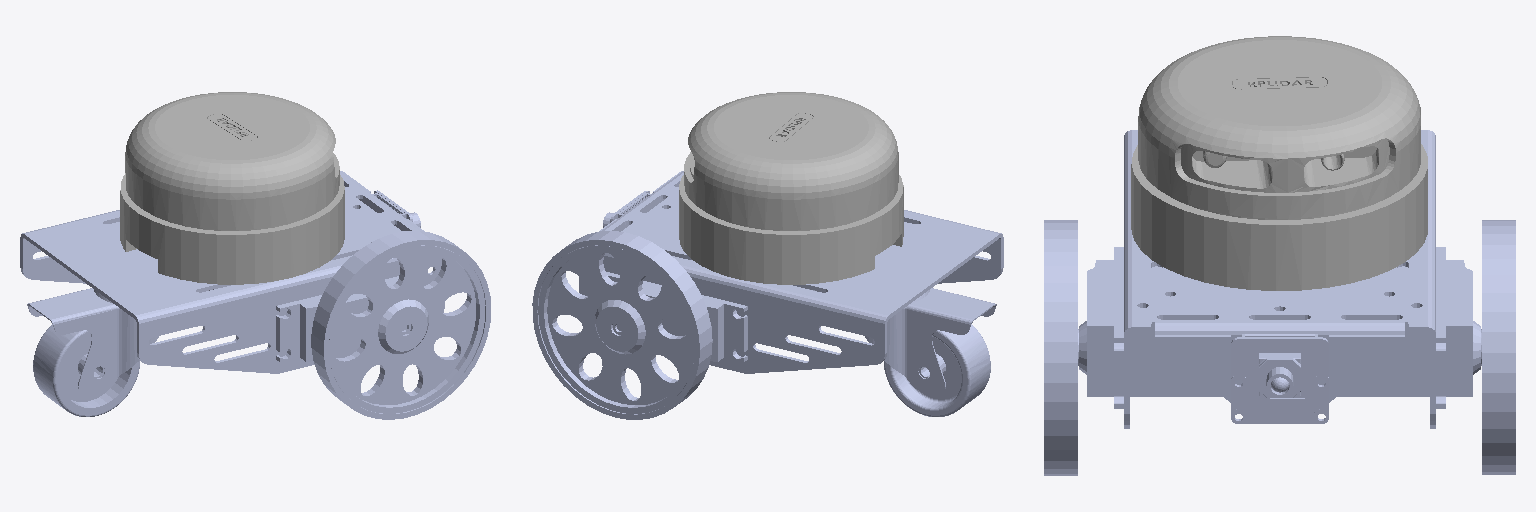
URDF robot description (boe_bot):
<?xml version="1.0" encoding="utf-8"?>
<!-- This URDF was automatically created by SolidWorks to URDF Exporter! Originally created by [author] ([email redacted]) 
     Commit Version: 1.6.0-4-g7f85cfe  Build Version: 1.6.7995.38578
     For more information, please see http://wiki.ros.org/sw_urdf_exporter -->
<robot name="boe_bot">
  <!-- Add base_footprint as the root link to avoid KDL inertia warning -->
  <link name="base_footprint"/>
  <!-- Connect base_footprint to base_link -->
  <joint name="base_footprint_to_base_link" type="fixed">
    <parent link="base_footprint"/>
    <child link="base_link"/>
    <origin xyz="0 0 0.015" rpy="0 0 0"/> <!-- Adjust z to bring base_footprint to ground level -->
  </joint>

  <link name="base_link">
    <inertial>
      <origin xyz="0.015372613233287 -3.46944695195361E-17 -0.0112885052624893" rpy="0 0 0"/>
      <mass value="0.0845069146251862"/>
      <inertia ixx="2.81611735996107E-05" ixy="2.16913313552812E-20" ixz="1.05758867413716E-06"
               iyy="4.27824591768325E-05" iyz="-4.86011791909739E-22" izz="6.37632690827645E-05"/>
    </inertial>
    <visual>
      <origin xyz="0 0 0" rpy="0 0 0"/>
      <geometry>
        <mesh filename="package://omni_diff/meshes/boe_bot/base_link.STL"/>
      </geometry>
      <material name="">
        <color rgba="0.796078431372549 0.823529411764706 0.937254901960784 1"/>
      </material>
    </visual>
    <collision>
      <origin xyz="0 0 0" rpy="0 0 0"/>
      <geometry>
        <mesh filename="package://omni_diff/meshes/boe_bot/base_link.STL"/>
      </geometry>
    </collision>
  </link>

  <link name="wheel_left_link">
    <inertial>
      <origin xyz="0 0.00553796497701515 -3.79470760369927E-18" rpy="0 0 0"/>
      <mass value="0.2130642793486274"/>
      <inertia ixx="4.32893090293568E-06" ixy="5.41845433689761E-23" ixz="1.73123420637818E-13"
               iyy="8.57657172030877E-06" iyz="-4.8491845912464E-22" izz="4.32893075375732E-06"/>
    </inertial>
    <visual>
      <origin xyz="0 0 0" rpy="0 0 0"/>
      <geometry>
        <mesh filename="package://omni_diff/meshes/boe_bot/wheel_left_link.STL"/>
      </geometry>
      <material name="">
        <color rgba="0.796078431372549 0.823529411764706 0.937254901960784 1"/>
      </material>
    </visual>
    <collision>
      <origin xyz="0 0 0" rpy="0 0 0"/>
      <geometry>
        <mesh filename="package://omni_diff/meshes/boe_bot/wheel_left_link.STL"/>
      </geometry>
    </collision>
  </link>

  <joint name="wheel_left_joint" type="continuous">
    <origin xyz="0.0335770220595312 0.0505 -0.0150000000000002" rpy="0 0 0"/>
    <parent link="base_link"/>
    <child link="wheel_left_link"/>
    <axis xyz="0 1 0"/>
  </joint>

  <link name="wheel_right_link">
    <inertial>
      <origin xyz="0 -0.00553796497701514 1.07336015076065E-17" rpy="0 0 0"/>
      <mass value="0.2130642793486274"/>
      <inertia ixx="4.32893100565209E-06" ixy="3.64755459763141E-22" ixz="6.40155716027221E-14"
               iyy="8.57657172030879E-06" iyz="-1.46386124150942E-20" izz="4.32893065104093E-06"/>
    </inertial>
    <visual>
      <origin xyz="0 0 0" rpy="0 0 0"/>
      <geometry>
        <mesh filename="package://omni_diff/meshes/boe_bot/wheel_right_link.STL"/>
      </geometry>
      <material name="">
        <color rgba="0.796078431372549 0.823529411764706 0.937254901960784 1"/>
      </material>
    </visual>
    <collision>
      <origin xyz="0 0 0" rpy="0 0 0"/>
      <geometry>
        <mesh filename="package://omni_diff/meshes/boe_bot/wheel_right_link.STL"/>
      </geometry>
    </collision>
  </link>

  <joint name="wheel_right_joint" type="continuous">
    <origin xyz="0.0335770220595312 -0.0505000000000001 -0.015" rpy="0 0 0"/>
    <parent link="base_link"/>
    <child link="wheel_right_link"/>
    <axis xyz="0 1 0"/>
  </joint>

  <link name="base_caster_link">
    <inertial>
      <origin xyz="-0.0104678852334143 1.57497942465668E-07 -0.0071134358279898" rpy="0 0 0"/>
      <mass value="0.10124862338167261"/>
      <inertia ixx="1.83848997721061E-07" ixy="-1.93002189856831E-11" ixz="-2.25796263159261E-08"
               iyy="2.78831217705956E-07" iyz="-1.1602793994816E-11" izz="2.85184016425339E-07"/>
    </inertial>
    <visual>
      <origin xyz="0 0 0" rpy="0 0 0"/>
      <geometry>
        <mesh filename="package://omni_diff/meshes/boe_bot/base_caster_link.STL"/>
      </geometry>
      <material name="">
        <color rgba="0.792156862745098 0.819607843137255 0.933333333333333 1"/>
      </material>
    </visual>
    <collision>
      <origin xyz="0 0 0" rpy="0 0 0"/>
      <geometry>
        <mesh filename="package://omni_diff/meshes/boe_bot/base_caster_link.STL"/>
      </geometry>
    </collision>
  </link>

  <joint name="base_caster_joint" type="continuous">
    <origin xyz="-0.0385214248009794 0 -0.00719409656050521" rpy="0 0 0"/>
    <parent link="base_link"/>
    <child link="base_caster_link"/>
    <axis xyz="0 0 1"/>
  </joint>

  <link name="wheel_caster_link">
    <inertial>
      <origin xyz="0 -0.00742574845928592 -1.73472347597681E-18" rpy="0 0 0"/>
      <mass value="0.10767892497936741"/>
      <inertia ixx="8.07278072682819E-07" ixy="5.64490306617491E-23" ixz="1.54955240768055E-22"
               iyy="1.39986458533007E-06" iyz="-8.48543971596133E-24" izz="8.07278072682819E-07"/>
    </inertial>
    <visual>
      <origin xyz="0 0 0" rpy="0 0 0"/>
      <geometry>
        <mesh filename="package://omni_diff/meshes/boe_bot/wheel_caster_link.STL"/>
      </geometry>
      <material name="">
        <color rgba="0.792156862745098 0.819607843137255 0.933333333333333 1"/>
      </material>
    </visual>
    <collision>
      <origin xyz="0 0 0" rpy="0 0 0"/>
      <geometry>
        <mesh filename="package://omni_diff/meshes/boe_bot/wheel_caster_link.STL"/>
      </geometry>
    </collision>
  </link>

  <joint name="wheel_caster_joint" type="continuous">
    <origin xyz="-0.0184 0.00740252051557694 -0.02346" rpy="0 0 0"/>
    <parent link="base_caster_link"/>
    <child link="wheel_caster_link"/>
    <axis xyz="0 1 0"/>
  </joint>

  <link name="lidar_link">
    <inertial>
      <origin xyz="-0.000563485694278578 -4.9454389998746E-05 -0.0270014519405859" rpy="0 0 0"/>
      <mass value="0.065382751635991"/>
      <inertia ixx="7.88455572217802E-05" ixy="2.72193273405131E-07" ixz="2.17895059451145E-06"
               iyy="7.52099178826257E-05" iyz="1.62277412641598E-07" izz="0.000109946753058707"/>
    </inertial>
    <visual>
      <origin xyz="0 0 0" rpy="0 0 0"/>
      <geometry>
        <mesh filename="package://omni_diff/meshes/boe_bot/lidar_link.STL"/>
      </geometry>
      <material name="">
        <color rgba="0.752941176470588 0.752941176470588 0.752941176470588 0.4"/>
      </material>
    </visual>
    <collision>
      <origin xyz="0 0 0" rpy="0 0 0"/>
      <geometry>
        <mesh filename="package://omni_diff/meshes/boe_bot/lidar_link.STL"/>
      </geometry>
    </collision>
  </link>

  <joint name="lidar_joint" type="fixed">
    <origin xyz="0 0 0.0493" rpy="0 0 0"/>
    <parent link="base_link"/>
    <child link="lidar_link"/>
    <axis xyz="0 0 1"/>
  </joint>

  <link name="camera_link">
    <inertial>
      <origin xyz="-0.0077092572425532 2.63468590775279E-05 -0.00016251773378602" rpy="0 0 0"/>
      <mass value="0.00154849051596779"/>
      <inertia ixx="9.81439425205818E-08" ixy="1.55536718669128E-11" ixz="2.74799408025989E-09"
               iyy="6.15276310368582E-08" iyz="3.76651168163259E-10" izz="5.63302052123382E-08"/>
    </inertial>
    <visual>
      <origin xyz="0 0 0" rpy="0 0 0"/>
      <geometry>
        <mesh filename="package://omni_diff/meshes/boe_bot/camera_link.STL"/>
      </geometry>
      <material name="">
        <color rgba="0.792156862745098 0.819607843137255 0.933333333333333 1"/>
      </material>
    </visual>
    <collision>
      <origin xyz="0 0 0" rpy="0 0 0"/>
      <geometry>
        <mesh filename="package://omni_diff/meshes/boe_bot/camera_link.STL"/>
      </geometry>
    </collision>
  </link>

  <joint name="camera_joint" type="fixed">
    <origin xyz="0.0716965295130383 0 -0.00809859999999995" rpy="0 0 0"/>
    <parent link="base_link"/>
    <child link="camera_link"/>
    <axis xyz="0 0 0"/>
  </joint>

  <link name="imu_link">
    <inertial>
      <origin xyz="-1.73472347597681E-18 0.000180981912555563 0.000888343705367662" rpy="0 0 0"/>
      <mass value="0.000302850245192701"/>
      <inertia ixx="6.03209693376082E-09" ixy="-9.69699030246281E-25" ixz="-1.81322634255859E-27"
               iyy="9.48650699122206E-09" iyz="-8.97755442994359E-13" izz="1.54683861524513E-08"/>
    </inertial>
    <visual>
      <origin xyz="0 0 0" rpy="0 0 0"/>
      <geometry>
        <mesh filename="package://omni_diff/meshes/boe_bot/imu_link.STL"/>
      </geometry>
      <material name="">
        <color rgba="0.666666666666667 0.698039215686274 0.768627450980392 1"/>
      </material>
    </visual>
    <collision>
      <origin xyz="0 0 0" rpy="0 0 0"/>
      <geometry>
        <mesh filename="package://omni_diff/meshes/boe_bot/imu_link.STL"/>
      </geometry>
    </collision>
  </link>

  <joint name="imu_joint" type="fixed">
    <origin xyz="0 0 -0.0014" rpy="0 0 0"/>
    <parent link="base_link"/>
    <child link="imu_link"/>
    <axis xyz="0 0 0"/>
  </joint>

  <!-- LiDAR Plugin -->
  <gazebo reference="lidar_link">
    <material>Gazebo/FlatBlack</material>
    <sensor type="ray" name="head_rplidar_sensor">
      <pose>0 0 0 0 0 0</pose>
      <visualize>true</visualize>
      <update_rate>10.0</update_rate>
      <ray>
        <scan>
          <horizontal>
            <samples>720</samples>
            <resolution>1</resolution>
            <min_angle>-3.1415</min_angle>
            <max_angle>3.1415</max_angle>
          </horizontal>
        </scan>
        <range>
          <min>0.120</min>
          <max>10</max>
          <resolution>0.015</resolution>
        </range>
        <noise>
          <type>gaussian</type>
          <mean>0.0</mean>
          <stddev>0.01</stddev>
        </noise>
      </ray>
      <plugin name="gazebo_ros_head_rplidar_controller" filename="libgazebo_ros_laser.so">
        <topicName>/scan</topicName>
        <frameName>lidar_link</frameName>
        <gaussianNoise>0.01</gaussianNoise>
      </plugin>
    </sensor>
  </gazebo>

<!-- Depth Camera Plugin -->
<gazebo reference="camera_link">
  <sensor name="depth_camera_sensor" type="depth">
    <always_on>1</always_on>
    <update_rate>30</update_rate>
    <camera>
      <horizontal_fov>1.0472</horizontal_fov>
      <image>
        <width>640</width>
        <height>480</height>
        <format>R8G8B8</format>
      </image>
      <clip>
        <near>0.1</near>
        <far>100</far>
      </clip>
    </camera>
    <plugin name="depth_camera_plugin" filename="libgazebo_ros_depth_camera.so">
      <robotNamespace>/camera/depth</robotNamespace>
      <imageTopicName>image_raw</imageTopicName>
      <depthImageTopicName>depth/image_raw</depthImageTopicName>
      <pointCloudTopicName>depth/points</pointCloudTopicName>
      <cameraInfoTopicName>camera_info</cameraInfoTopicName>
      <frameName>camera_link</frameName>
    </plugin>
  </sensor>
</gazebo>

  <!-- IMU Plugin -->
  <gazebo reference="imu_link">
    <gravity>true</gravity>
    <sensor name="imu_sensor" type="imu">
      <always_on>true</always_on>
      <update_rate>100</update_rate>
      <visualize>true</visualize>
      <plugin name="imu_plugin" filename="libgazebo_ros_imu_sensor.so">
        <topicName>/imu</topicName>
        <bodyName>imu_link</bodyName>
        <updateRateHZ>10.0</updateRateHZ>
        <gaussianNoise>0.0</gaussianNoise>
        <xyzOffset>0 0 0</xyzOffset>
        <rpyOffset>0 0 0</rpyOffset>
        <frameName>imu_link</frameName>
        <initialOrientationAsReference>false</initialOrientationAsReference>
      </plugin>
      <pose>0 0 0 0 0 0</pose>
    </sensor>
  </gazebo>

  <!-- Differential Drive Plugin -->
  <gazebo>
    <plugin name="boe_bot_controller" filename="libgazebo_ros_diff_drive.so">
      <commandTopic>cmd_vel</commandTopic>
      <odometryTopic>odom</odometryTopic>
      <odometryFrame>odom</odometryFrame>
      <odometrySource>world</odometrySource>
      <publishOdomTF>true</publishOdomTF>
      <robotBaseFrame>base_footprint</robotBaseFrame>
      <publishWheelTF>false</publishWheelTF>
      <publishTf>true</publishTf>
      <publishWheelJointState>true</publishWheelJointState>
      <legacyMode>false</legacyMode>
      <updateRate>30</updateRate>
      <leftJoint>wheel_left_joint</leftJoint>
      <rightJoint>wheel_right_joint</rightJoint>
      <wheelSeparation>0.101</wheelSeparation>
      <wheelDiameter>0.066</wheelDiameter>
      <wheelAcceleration>1</wheelAcceleration>
      <wheelTorque>10</wheelTorque>
      <rosDebugLevel>debug</rosDebugLevel>
    </plugin>
  </gazebo>
</robot>

--- Render facts (derived) ---
The picture shows the robot from 3 angles, left to right: view 1: azimuth 30°, elevation 25°; view 2: azimuth 150°, elevation 25°; view 3: azimuth 270°, elevation 25°; orthographic projection.
Robot: boe_bot — 9 links, 8 joints (4 continuous, 4 fixed); root link base_footprint; default pose: all joints at 0.
Visible links, largest first — view 1: lidar_link, base_link, wheel_right_link, base_caster_link, wheel_caster_link; view 2: lidar_link, base_link, wheel_left_link, base_caster_link, wheel_caster_link; view 3: lidar_link, base_link, wheel_right_link, wheel_left_link, camera_link.
Link boxes in pixels (bbox=[...]): lidar_link: bbox=[120, 92, 344, 284]; base_link: bbox=[20, 171, 444, 373]; wheel_right_link: bbox=[311, 231, 490, 419]; base_caster_link: bbox=[27, 288, 158, 393]; wheel_caster_link: bbox=[33, 324, 139, 416]; lidar_link: bbox=[679, 92, 903, 284]; base_link: bbox=[579, 171, 1003, 373]; wheel_left_link: bbox=[532, 231, 712, 419]; base_caster_link: bbox=[865, 288, 996, 393]; wheel_caster_link: bbox=[884, 324, 990, 416]; lidar_link: bbox=[1131, 36, 1427, 290]; base_link: bbox=[1079, 130, 1480, 428]; wheel_right_link: bbox=[1044, 220, 1078, 475]; wheel_left_link: bbox=[1481, 220, 1515, 474]; camera_link: bbox=[1231, 334, 1328, 423].
Bounding box of the posed robot: 0.1475 × 0.1205 × 0.0917 m (x, y, z).
8 mesh visuals loaded from 8 distinct referenced files (8 binary STL).
